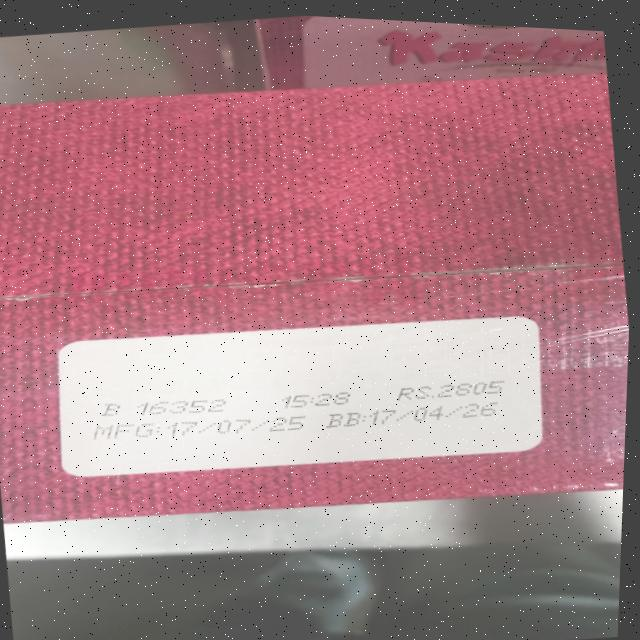BB: (326, 391, 505, 438)
Batch: (98, 388, 228, 426)
MFG: (93, 401, 306, 455)
RS: (394, 373, 509, 407)
TimeStamp: (279, 386, 354, 412)
